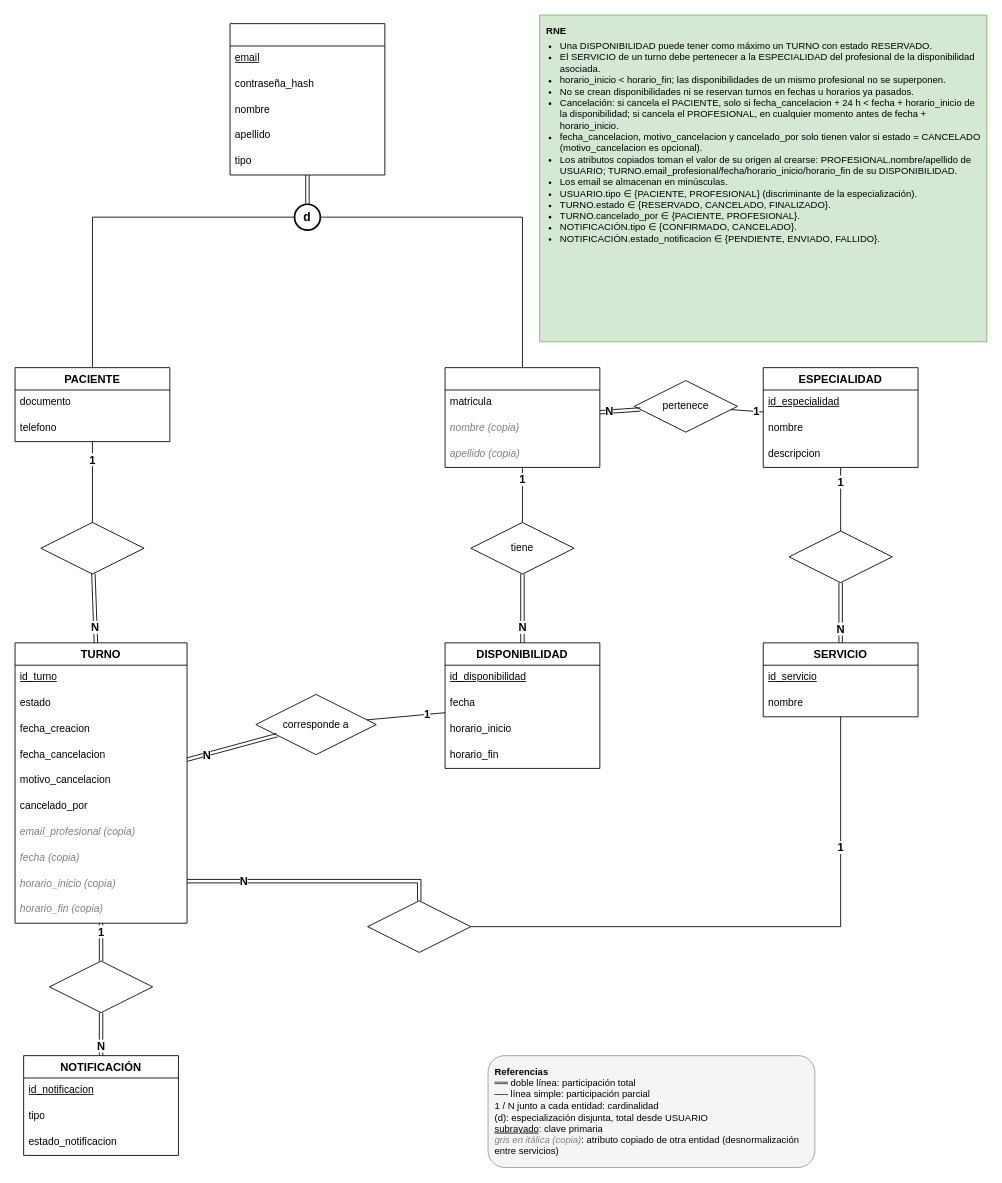
Some shapes in this 1002 by 1183 pixel diagram are drawn without their labels. Each missing label, with the box of its shape:
es de: (367, 900, 471, 952)
notifica: (49, 960, 153, 1013)
ofrece: (788, 530, 892, 583)
PROFESIONAL: (444, 367, 600, 467)
reserva: (40, 522, 144, 574)
USUARIO: (229, 23, 385, 175)
